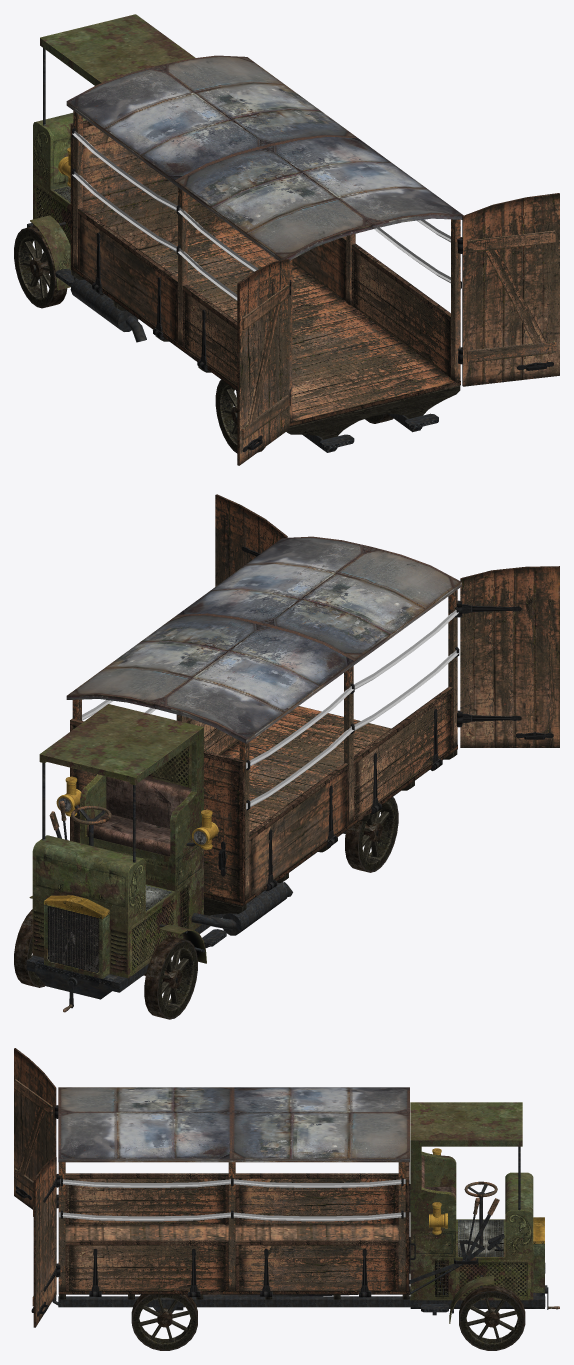
Rendered from truck_openrear.DAE.
The picture shows the model from 3 angles, top to bottom: view 1: azimuth 30°, elevation 25°; view 2: azimuth 150°, elevation 25°; view 3: azimuth 270°, elevation 25°; orthographic projection. The views are drawn at different scales.
Visible parts, largest first — view 1: Box082, Box081, Box084, Object061, Box080, Box083, Object060; view 2: Box082, Box081, Box084, Object061, Box080, Box083, Object060; view 3: Box082, Box081, Box084, Box080, Object061, Box083, Object060.
Boxes of the visible parts, x1,y1,x2,y2 form: Box082: (70, 111, 559, 465); Box081: (66, 55, 463, 260); Box084: (30, 14, 195, 290); Object061: (14, 226, 460, 453); Box080: (27, 48, 438, 452); Box083: (72, 131, 460, 300); Object060: (72, 128, 553, 452); Box082: (49, 494, 559, 1012); Box081: (66, 536, 461, 743); Box084: (29, 704, 218, 978); Object061: (14, 750, 457, 1019); Box080: (26, 763, 345, 1008); Box083: (82, 610, 458, 809); Object060: (218, 546, 553, 891); Box082: (14, 1048, 559, 1327); Box081: (58, 1087, 409, 1162); Box084: (410, 1102, 544, 1323); Box080: (52, 1146, 548, 1315); Object061: (59, 1285, 525, 1350); Box083: (59, 1179, 405, 1221); Object060: (15, 1105, 478, 1316).
Size of the model in its own units: 6.18 by 4.58 by 10.79.
